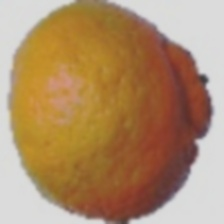tangerine: (19, 48, 188, 211)
